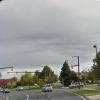Tree: (44, 58, 76, 88)
